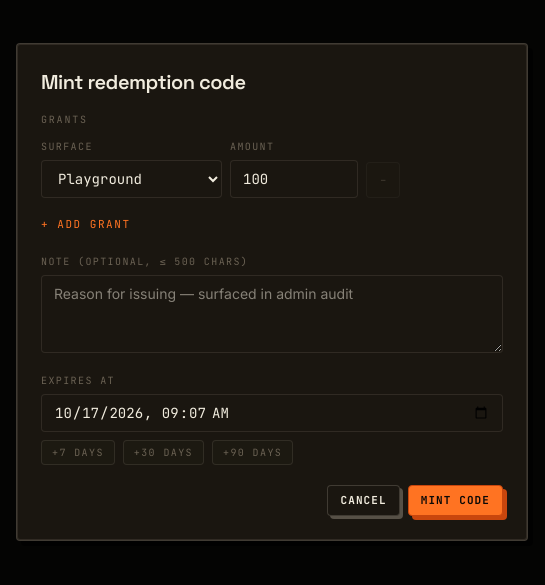
MintRedemptionCodeModal › rejects submit when amount is invalid (zero / non-positive)
The width and height of the screenshot is (545, 585).
Step 1. Replace the text in the number field named "grant 1 amount" with "0" → [294, 179], box [230,160,358,198]
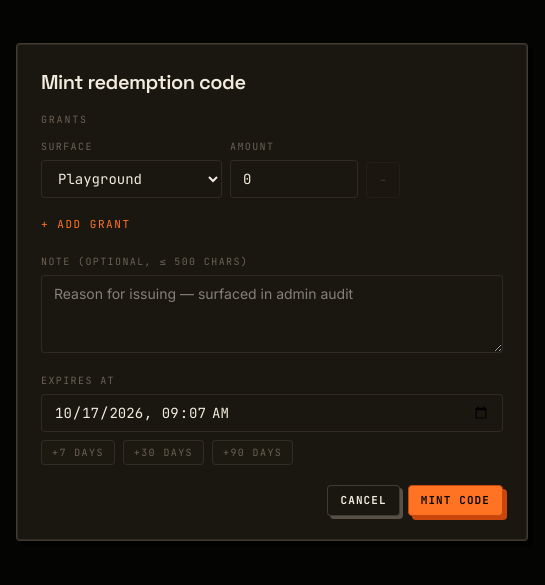
Step 2. Click the button "Mint code" → [455, 501], box [408,485,503,516]
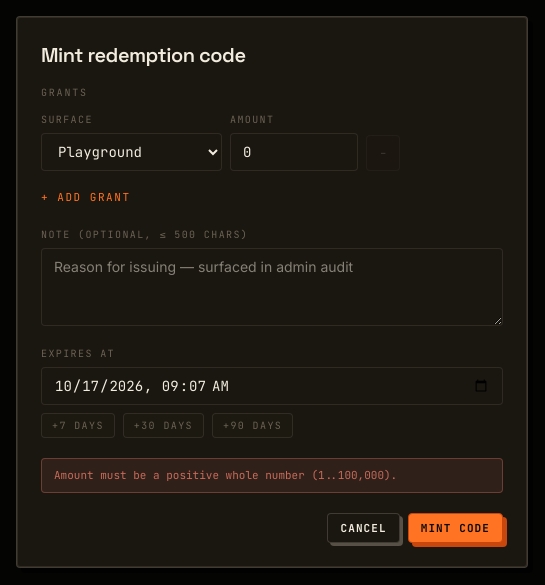
Now the message shows "positive whole number", box [54,468,397,482]
